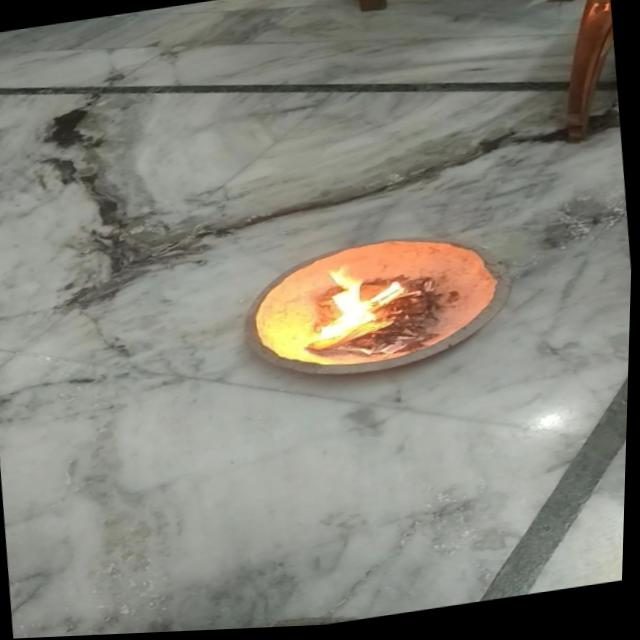fire: (307, 259, 422, 353)
